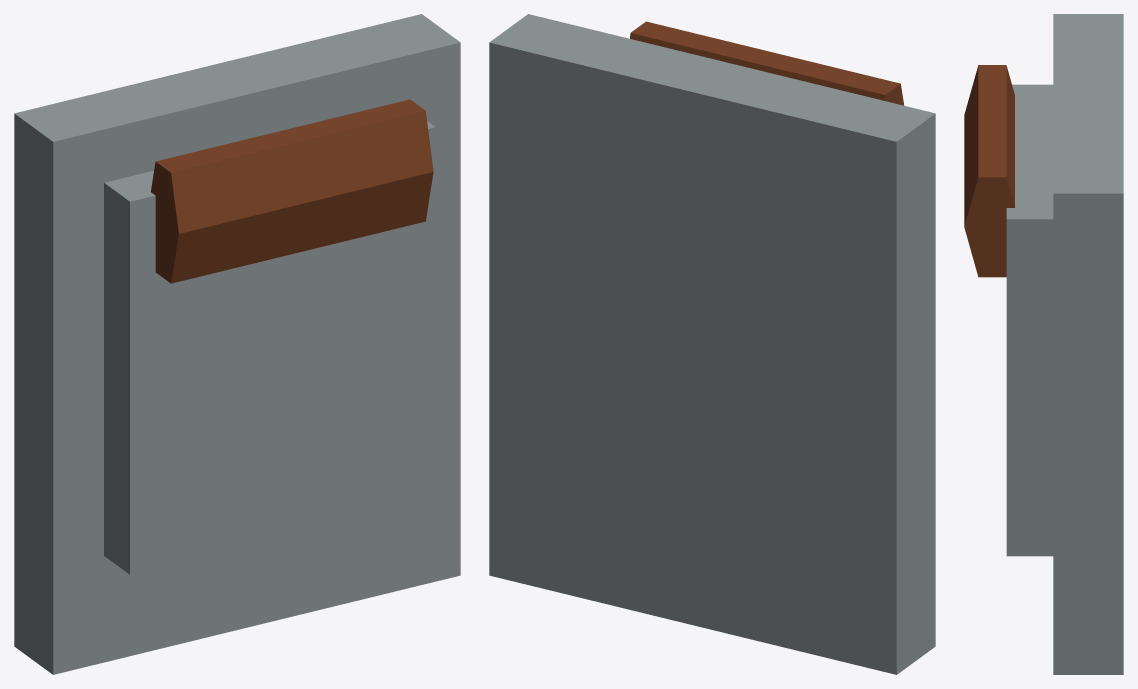
The model's file is FRM_022_D_LODs.fbx.
3 renders of one model, left to right at view 1: azimuth 30°, elevation 25°; view 2: azimuth 150°, elevation 25°; view 3: azimuth 270°, elevation 25°, orthographic. The views are drawn at different scales.
Visible parts, largest first — view 1: FRM_022_D_LOD0; view 2: FRM_022_D_LOD0; view 3: FRM_022_D_LOD0.
Boxes of the visible parts, <box> form: FRM_022_D_LOD0: <box>14,14,460,674</box>; FRM_022_D_LOD0: <box>489,14,935,674</box>; FRM_022_D_LOD0: <box>964,14,1123,674</box>.
Size of what is drawn, in the model's own units: 0.04 by 0.05 by 0.015.
